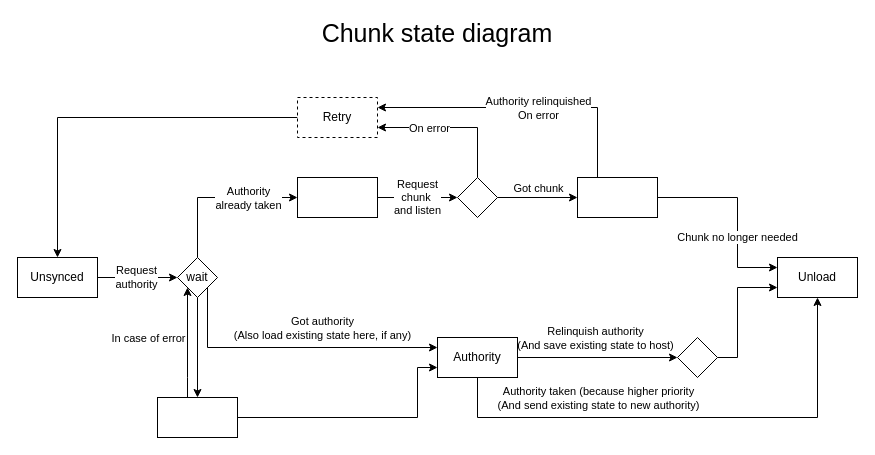
The diagram is 875 pixels wide and 455 high, and some of its shapes have lost their labels. Each missing label, with the centre of its shape:
"Listener" belongs at [617,197].
"Transfer" belongs at [197,417].
"Waiting for chunk" belongs at [337,197].
